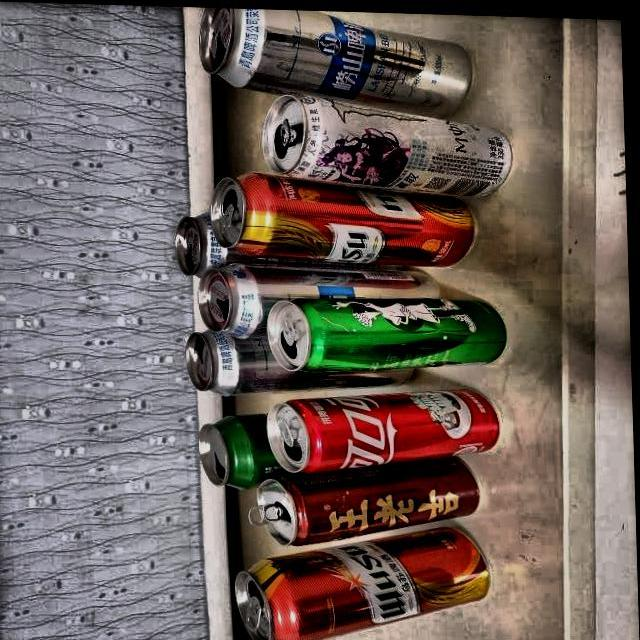litter: (220, 517, 496, 640), (248, 89, 533, 200), (199, 5, 473, 118), (257, 371, 513, 476), (242, 442, 489, 550), (213, 170, 481, 264), (266, 280, 516, 376), (196, 248, 443, 344), (182, 318, 426, 399), (180, 398, 288, 491), (170, 202, 226, 278)
